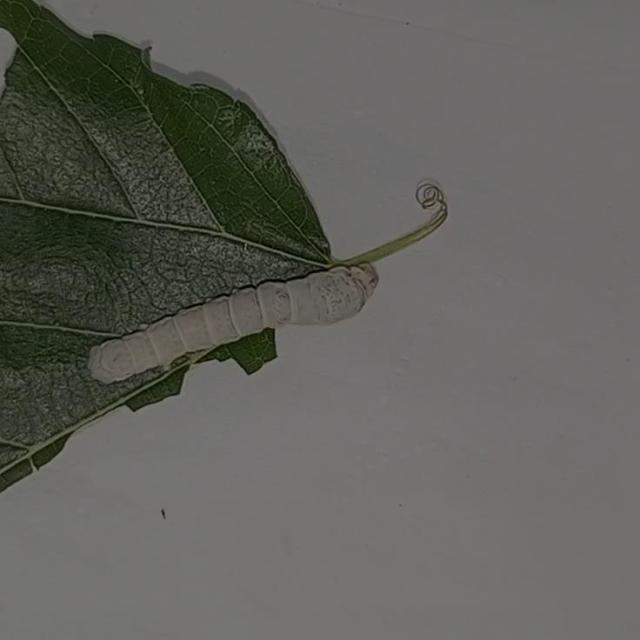Healthy: (63, 238, 408, 384)
